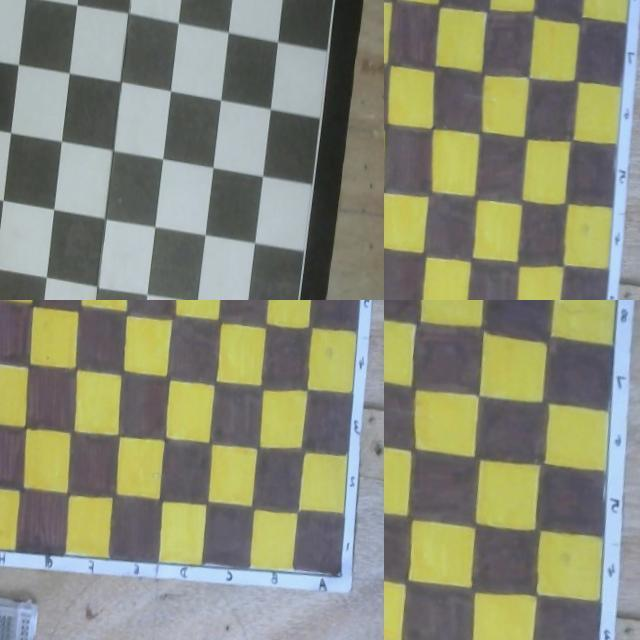chess-table-corners: (338, 564, 343, 572), (341, 0, 346, 3), (375, 300, 380, 303), (0, 542, 2, 549), (615, 300, 622, 302), (384, 300, 387, 304), (0, 0, 3, 3), (632, 0, 635, 2)
